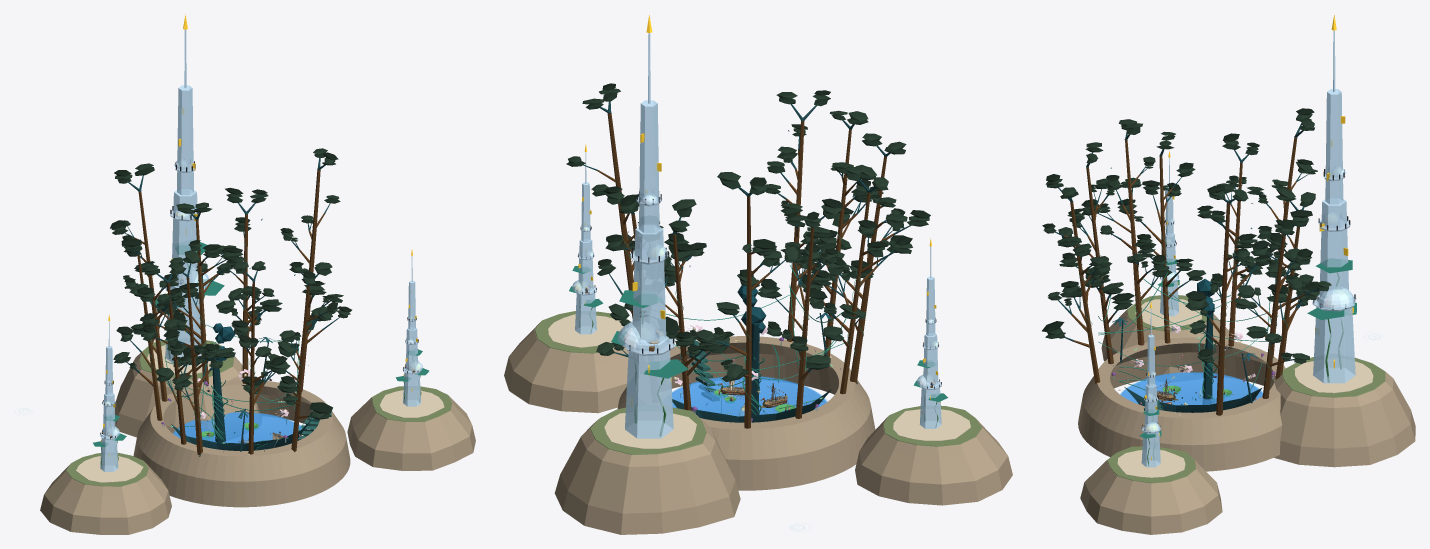
Rendered from crystal-v7-r01.glb.
The picture shows the model from 3 angles, left to right: view 1: azimuth 30°, elevation 25°; view 2: azimuth 150°, elevation 25°; view 3: azimuth 270°, elevation 25°; orthographic projection. The views are drawn at different scales.
Parts seen in each view (by area): view 1: swamp-outer-embankment, bank-rock-2, bank-rock-1, bank-rock-0, moebius-grand-community-tower, swamp-towering-tree, swamp-towering-tree.002, swamp-towering-tree.001, swamp-towering-tree.006, swamp-towering-tree.003, swamp-towering-tree.008, swamp-towering-tree.007 (+13 smaller); view 2: swamp-outer-embankment, bank-rock-0, moebius-grand-community-tower, bank-rock-1, bank-rock-2, swamp-towering-tree.005, swamp-towering-tree.003, swamp-towering-tree.004, swamp-towering-tree, swamp-towering-tree.006, swamp-towering-tree.002, swamp-underground-waterline (+16 smaller); view 3: swamp-outer-embankment, bank-rock-0, moebius-grand-community-tower, bank-rock-2, swamp-towering-tree, swamp-towering-tree.008, swamp-towering-tree.007, swamp-towering-tree.006, swamp-towering-tree.001, swamp-towering-tree.003, swamp-towering-tree.002, swamp-towering-tree.004 (+16 smaller).
Boxes of the visible parts, left/top/right/bottom form: swamp-outer-embankment: left=133, top=379, right=350, bottom=507; bank-rock-2: left=347, top=396, right=475, bottom=470; bank-rock-1: left=40, top=462, right=171, bottom=534; bank-rock-0: left=115, top=353, right=259, bottom=437; moebius-grand-community-tower: left=150, top=14, right=224, bottom=365; swamp-towering-tree: left=266, top=262, right=337, bottom=452; swamp-towering-tree.002: left=157, top=250, right=235, bottom=456; swamp-towering-tree.001: left=216, top=260, right=290, bottom=454; swamp-towering-tree.006: left=157, top=202, right=245, bottom=385; swamp-towering-tree.003: left=137, top=257, right=220, bottom=444; swamp-towering-tree.008: left=280, top=148, right=351, bottom=391; swamp-towering-tree.007: left=209, top=187, right=282, bottom=385; swamp-outer-embankment: left=617, top=336, right=875, bottom=490; bank-rock-0: left=554, top=411, right=740, bottom=534; moebius-grand-community-tower: left=611, top=15, right=688, bottom=438; bank-rock-1: left=855, top=416, right=1012, bottom=505; bank-rock-2: left=504, top=321, right=628, bottom=413; swamp-towering-tree.005: left=695, top=172, right=798, bottom=428; swamp-towering-tree.003: left=809, top=166, right=912, bottom=394; swamp-towering-tree.004: left=757, top=198, right=844, bottom=418; swamp-towering-tree: left=765, top=90, right=851, bottom=341; swamp-towering-tree.006: left=632, top=199, right=734, bottom=410; swamp-towering-tree.002: left=811, top=133, right=930, bottom=383; swamp-underground-waterline: left=672, top=376, right=827, bottom=416; swamp-outer-embankment: left=1078, top=337, right=1285, bottom=471; bank-rock-0: left=1262, top=372, right=1415, bottom=467; moebius-grand-community-tower: left=1307, top=15, right=1356, bottom=383; bank-rock-2: left=1080, top=458, right=1222, bottom=534; swamp-towering-tree: left=1042, top=174, right=1112, bottom=383; swamp-towering-tree.008: left=1185, top=185, right=1256, bottom=415; swamp-towering-tree.007: left=1234, top=209, right=1312, bottom=398; swamp-towering-tree.006: left=1251, top=187, right=1331, bottom=379; swamp-towering-tree.001: left=1058, top=142, right=1134, bottom=364; swamp-towering-tree.003: left=1117, top=131, right=1206, bottom=345; swamp-towering-tree.002: left=1084, top=119, right=1172, bottom=345; swamp-towering-tree.004: left=1197, top=133, right=1275, bottom=348.
Size of what is drawn, in the model's own units: 109 by 108 by 81.76.
